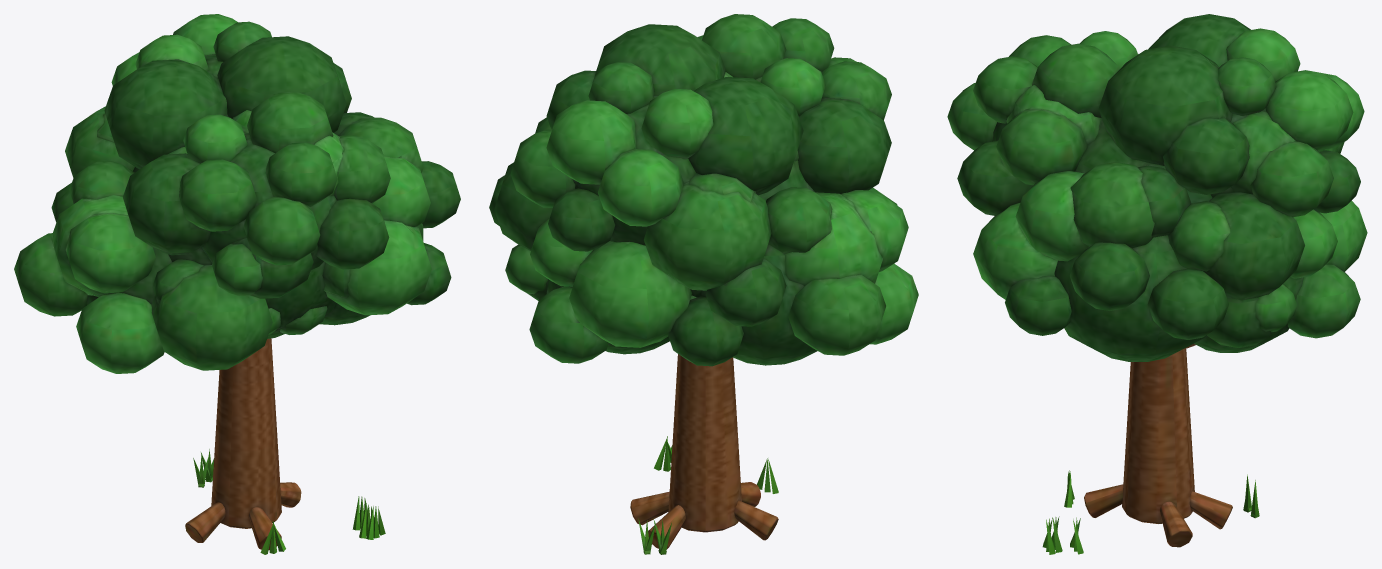
Rendered from jabuticaba_tree.glb.
3 renders of one model, left to right at view 1: azimuth 30°, elevation 25°; view 2: azimuth 150°, elevation 25°; view 3: azimuth 270°, elevation 25°, orthographic. The views are drawn at different scales.
Visible parts, largest first — view 1: crown, jabuticaba_tree; view 2: crown, jabuticaba_tree; view 3: crown, jabuticaba_tree.
Part boxes in pixels (box(x1,y1,x2,y2)): crown: box(14, 14, 460, 373); jabuticaba_tree: box(185, 338, 385, 554); crown: box(489, 14, 918, 366); jabuticaba_tree: box(630, 354, 778, 554); crown: box(947, 14, 1367, 361); jabuticaba_tree: box(1042, 343, 1259, 554).
Size of the model in its own units: 1.12 by 1.31 by 1.02.
Materials: 1 (1 with a texture image).
